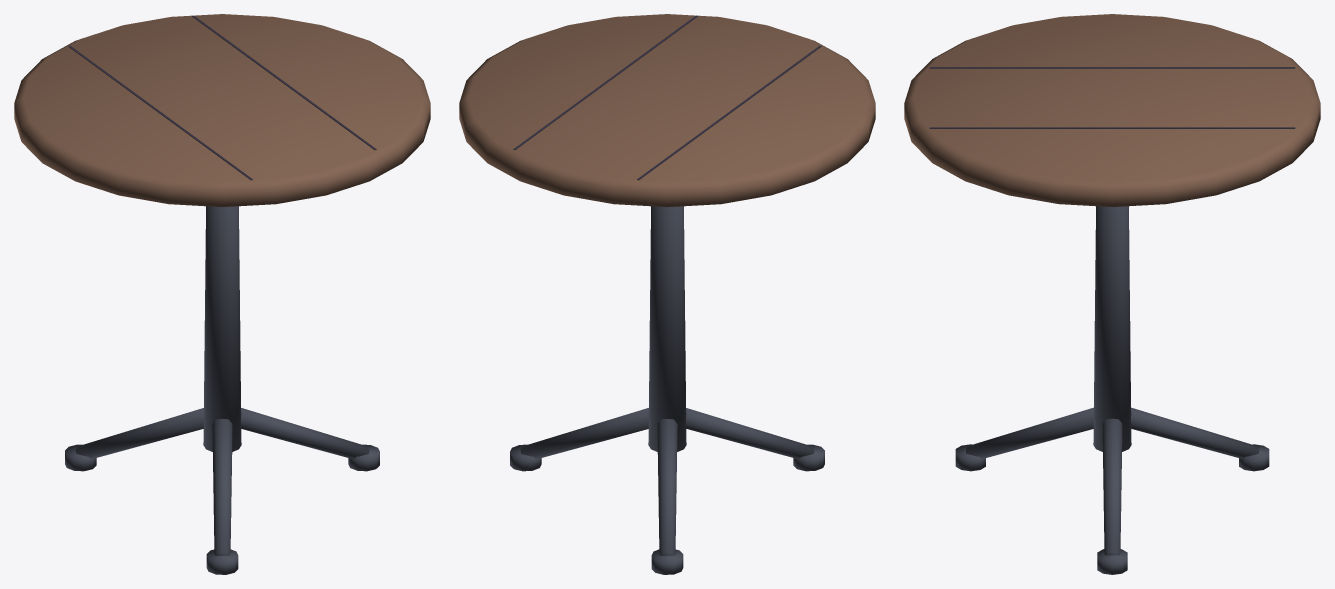
Rendered from SM_Cafe_Table.fbx.
3 renders of one model, left to right at view 1: azimuth 30°, elevation 25°; view 2: azimuth 150°, elevation 25°; view 3: azimuth 270°, elevation 25°, orthographic.
Parts seen in each view (by area): view 1: SM_Cafe_Table; view 2: SM_Cafe_Table; view 3: SM_Cafe_Table.
Boxes of the visible parts, <box> form: SM_Cafe_Table: <box>14,14,430,574</box>; SM_Cafe_Table: <box>459,14,875,574</box>; SM_Cafe_Table: <box>904,14,1320,574</box>.
Bounding box in the file's own units: 0.7 × 0.7 × 0.745.
